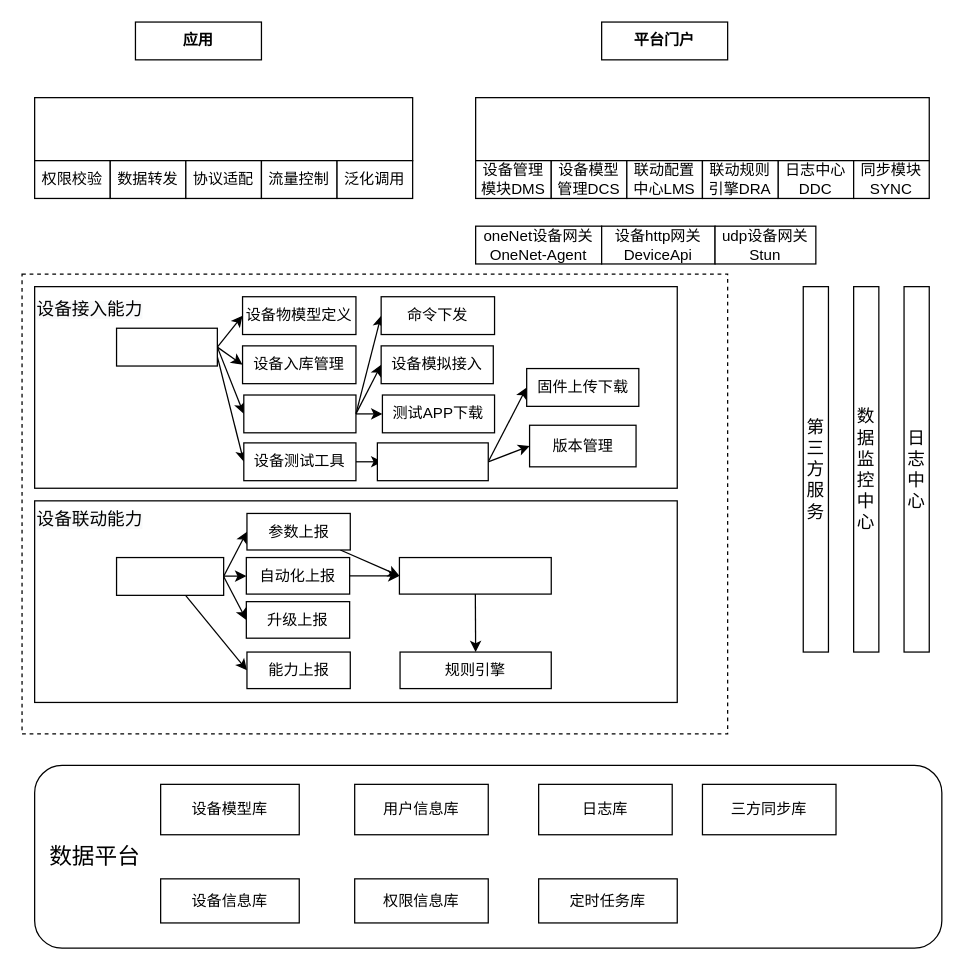
This 964x970 diagram has some shape labels left out. Here are the shapes that lost their labels. From the top down, the centre of each, then its label:
At (x=223, y=128): "网关HOA".
At (x=701, y=128): "平台后端".
At (x=166, y=346): "厂商接入中心".
At (x=299, y=413): "设备接入协议".
At (x=432, y=461): "OTA升级".
At (x=169, y=575): "设备中心".
At (x=474, y=575): "自动化、场景联动".
